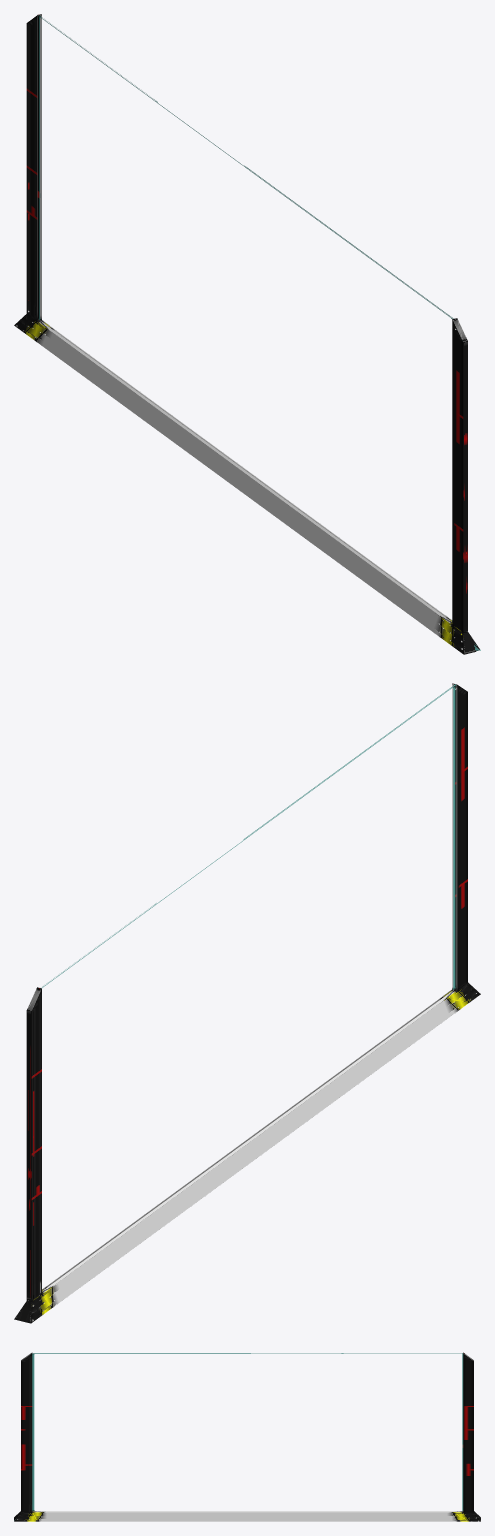
File: barrier.obj
3 renders of one model, top to bottom at view 1: azimuth 30°, elevation 25°; view 2: azimuth 150°, elevation 25°; view 3: azimuth 270°, elevation 25°, orthographic. The views are drawn at different scales.
Visible parts, largest first — view 1: Cube; view 2: Cube; view 3: Cube.
Boxes of the visible parts, x1=… form: Cube: x1=14, y1=14, x2=480, y2=654; Cube: x1=14, y1=683, x2=480, y2=1323; Cube: x1=14, y1=1352, x2=480, y2=1521.
Bounding box in the file's own units: 0.7 × 12.6 × 32.
